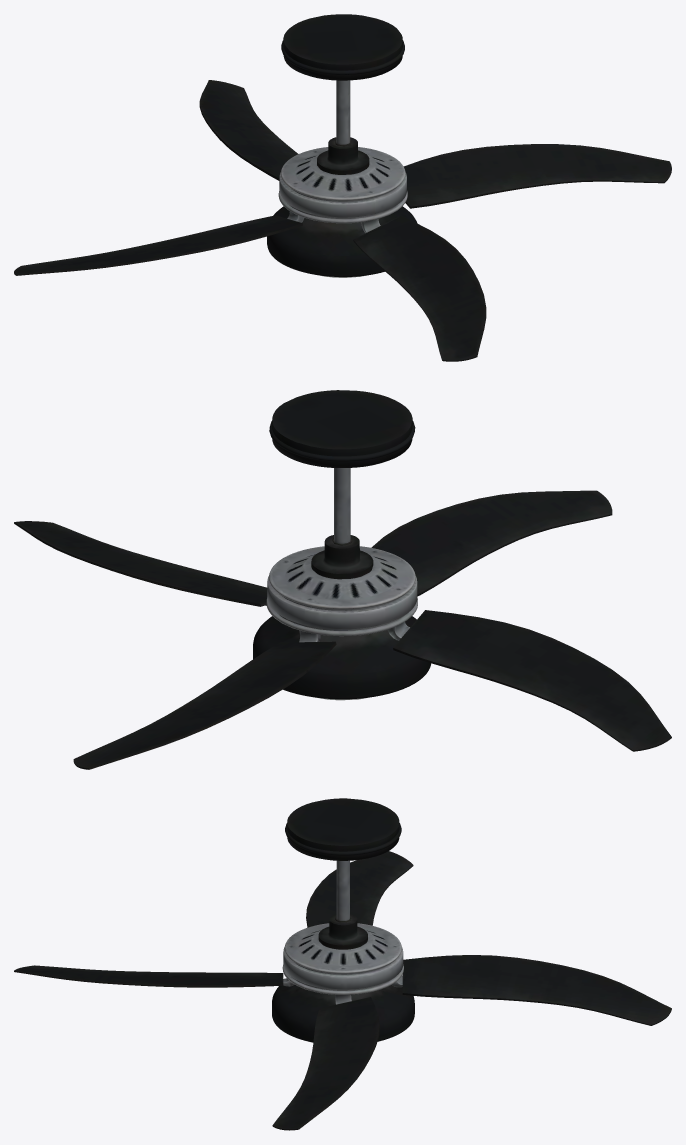
File: ceiling_fan.glb
The picture shows the model from 3 angles, top to bottom: view 1: azimuth 30°, elevation 25°; view 2: azimuth 150°, elevation 25°; view 3: azimuth 270°, elevation 25°; orthographic projection. The views are drawn at different scales.
Visible parts, largest first — view 1: ceiling_fan_blades, ceiling_fan; view 2: ceiling_fan_blades, ceiling_fan; view 3: ceiling_fan_blades, ceiling_fan.
Boxes of the visible parts, x1,y1,x2,y2 form: ceiling_fan_blades: (14,80,671,361); ceiling_fan: (267,14,417,277); ceiling_fan_blades: (14,490,671,769); ceiling_fan: (253,390,431,700); ceiling_fan_blades: (14,851,671,1130); ceiling_fan: (272,798,414,1042).
Bounding box in the file's own units: 1.46 × 0.5163 × 1.46.
1 material, 1 textured.
